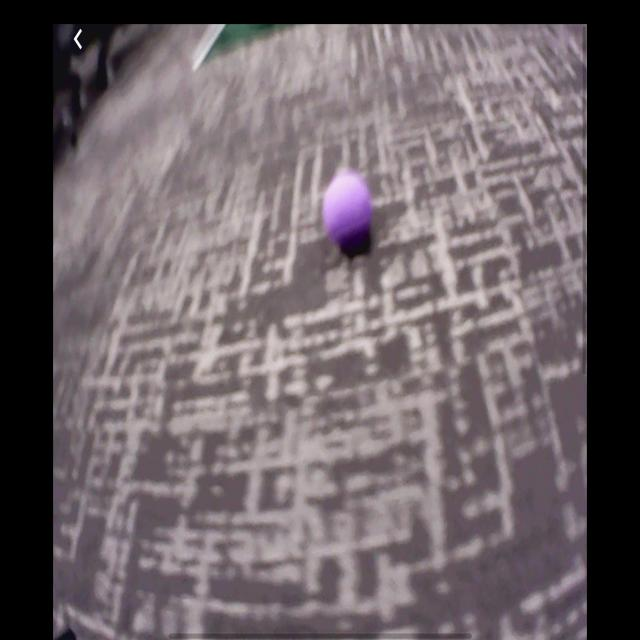ball: (324, 176, 372, 250)
